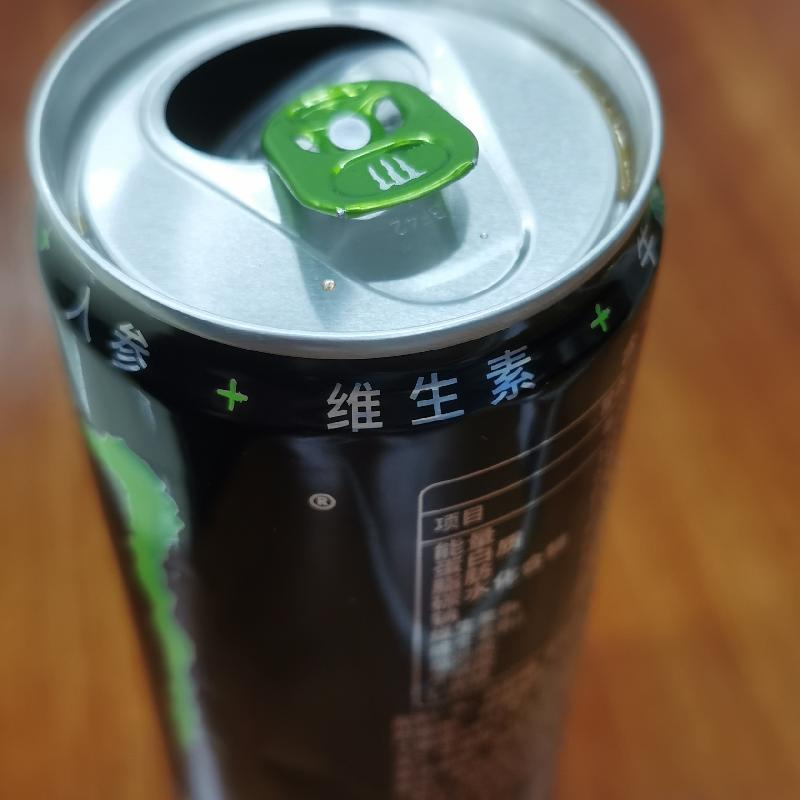cans: (18, 1, 668, 363)
